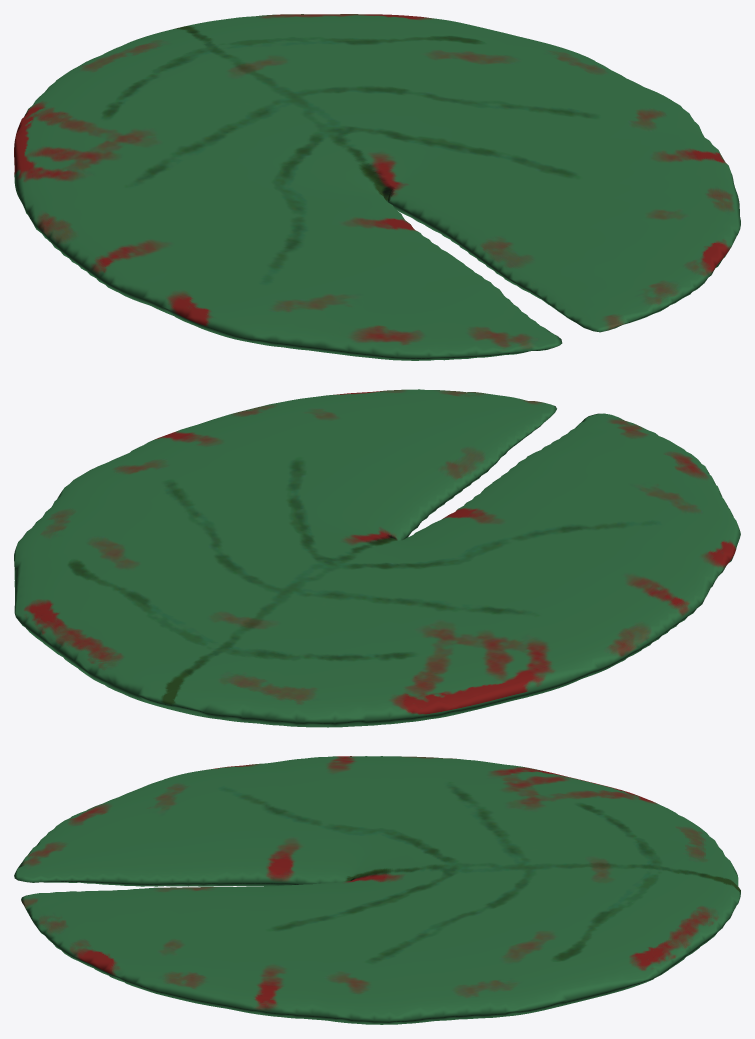
File: Waterlilly.fbx
3 views of the same model, one above another, from view 1: azimuth 30°, elevation 25°; view 2: azimuth 150°, elevation 25°; view 3: azimuth 270°, elevation 25° (orthographic). The views are drawn at different scales.
Parts seen in each view (by area): view 1: root; view 2: root; view 3: root.
Boxes of the visible parts, <box> form: root: <box>14,14,740,360</box>; root: <box>14,389,740,727</box>; root: <box>14,756,740,1024</box>.
Size of the model in its own units: 0.4364 by 0.0362 by 0.5161.
1 material, 1 textured.
